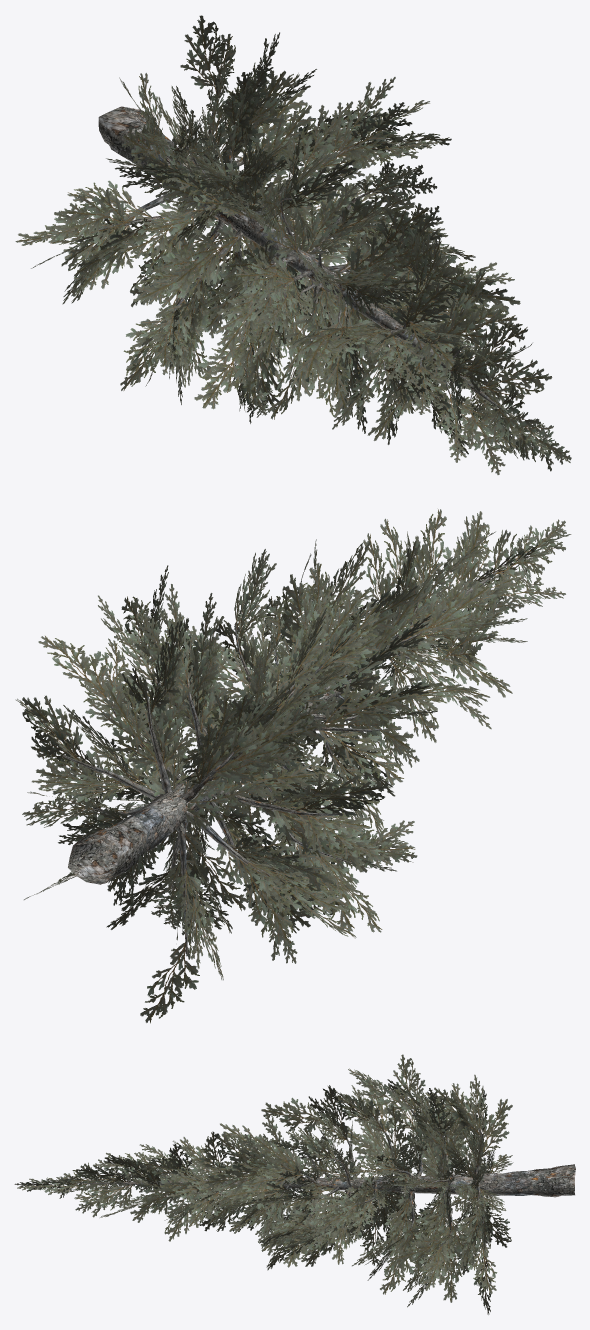
Rendered from spruce_tree.glb.
The picture shows the model from 3 angles, top to bottom: view 1: azimuth 30°, elevation 25°; view 2: azimuth 150°, elevation 25°; view 3: azimuth 270°, elevation 25°; orthographic projection. The views are drawn at different scales.
Parts seen in each view (by area): view 1: Spruce_LOD0; view 2: Spruce_LOD0; view 3: Spruce_LOD0.
Part boxes in pixels (bbox=[...]): Spruce_LOD0: bbox=[15, 15, 571, 474]; Spruce_LOD0: bbox=[15, 509, 571, 1023]; Spruce_LOD0: bbox=[14, 1054, 575, 1314].
Bounding box in the file's own units: 8.42 × 8.1 × 17.42.
Materials: 2 (2 with a texture image).
